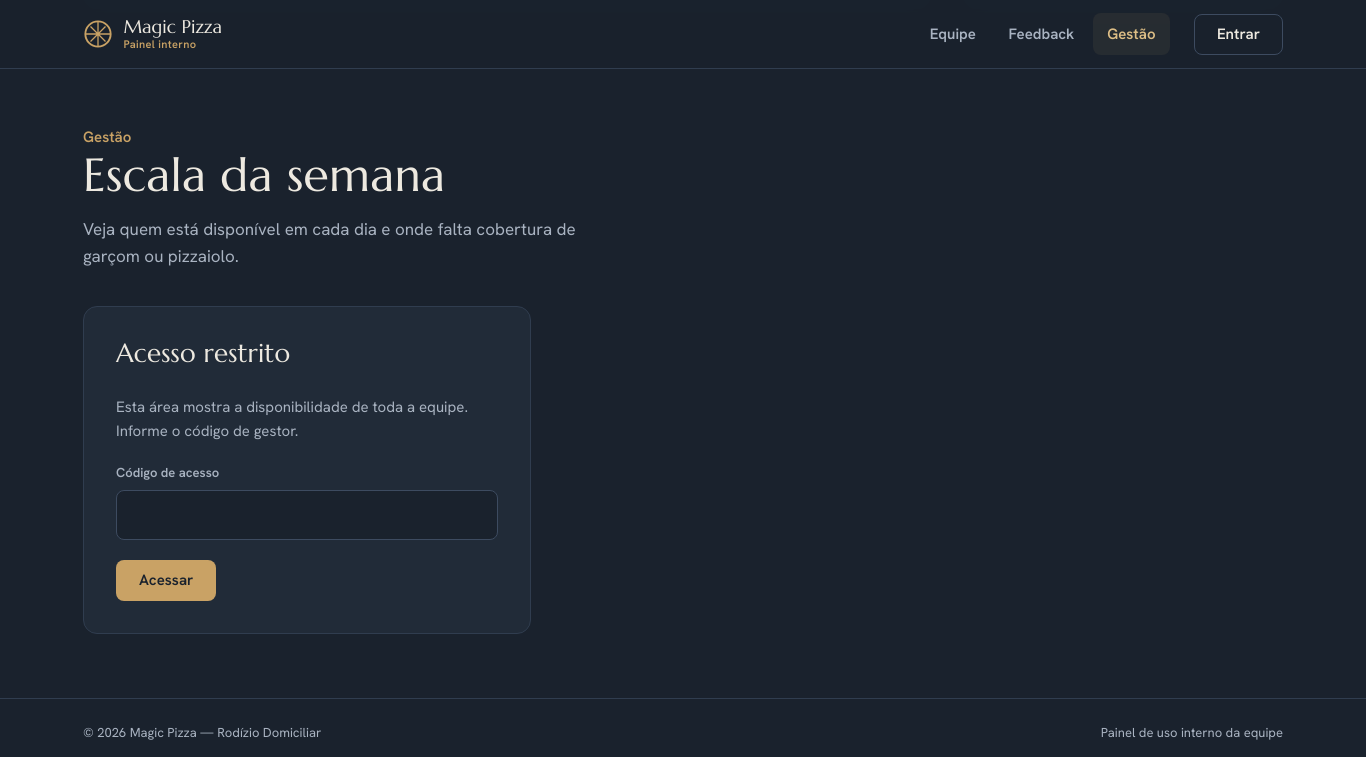
it: Aba Gestão › mostra a grade com horários e cobertura, e filtra por função
(page scrolled)
Step 1. Type "magic2026" into the password field labelled "Código de acesso" → (307, 515), box x1=116 y1=490 x2=498 y2=540
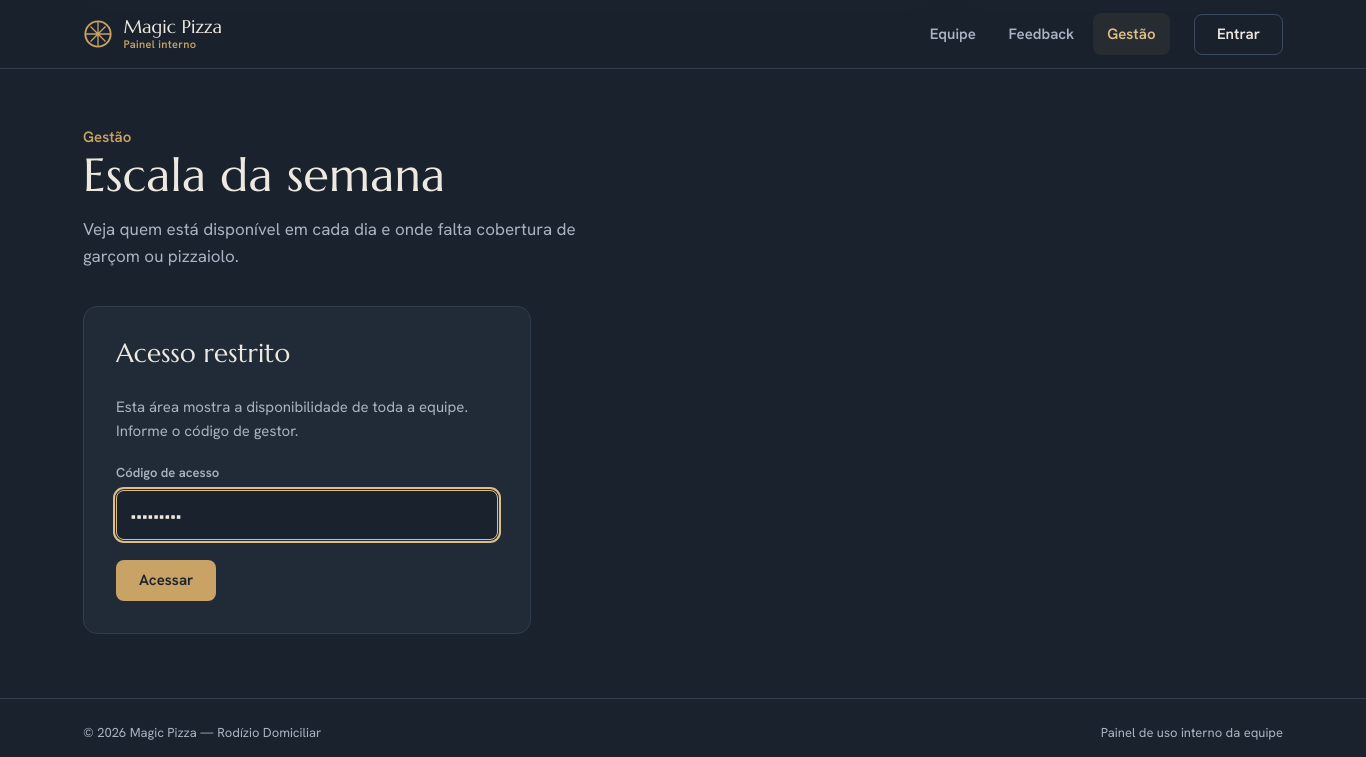
Step 2. Click the button "Acessar" → click(166, 581), box x1=116 y1=560 x2=216 y2=601
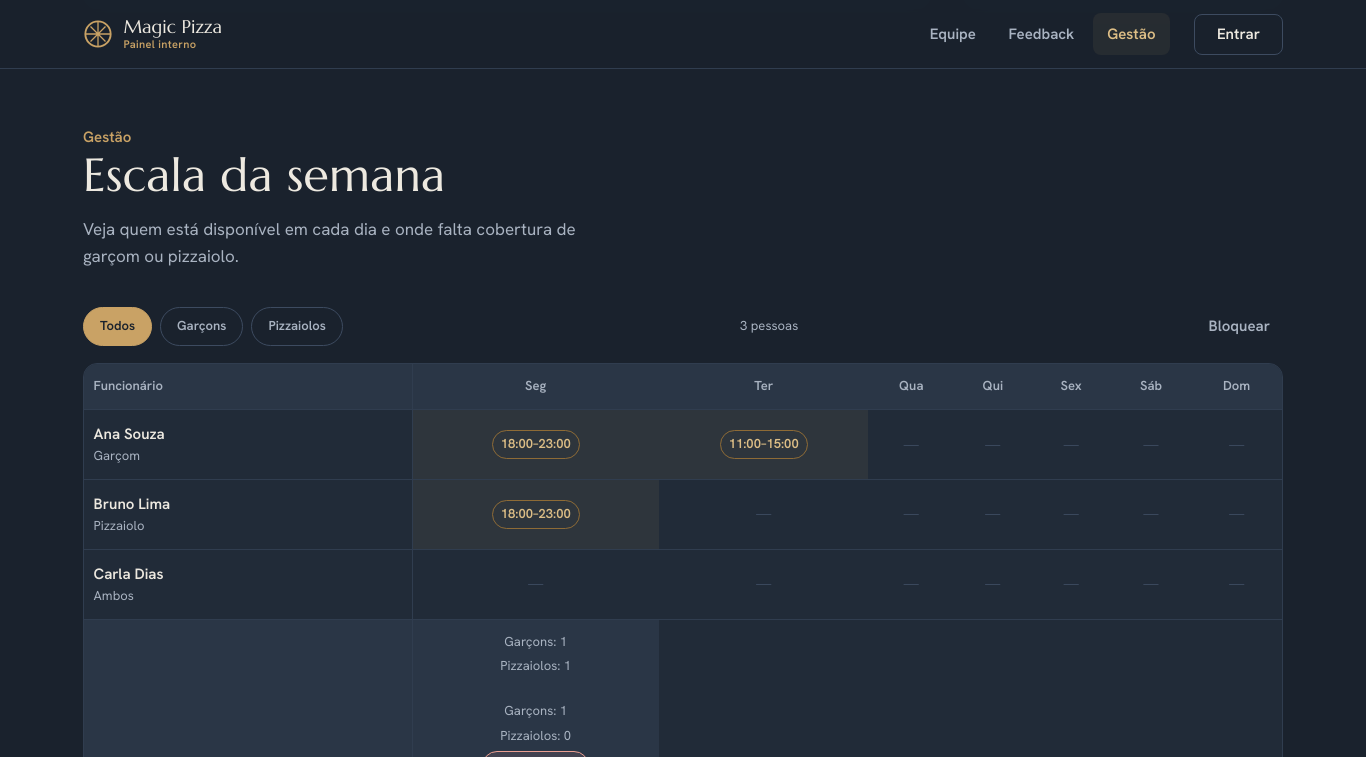
Check: the text "18:00–23:00" in the row of "Ana Souza" is shown, box x1=492 y1=430 x2=580 y2=459
Check: the text "11:00–15:00" is shown, box x1=720 y1=430 x2=808 y2=459
Step 3. Click the button "Pizzaiolos" → click(297, 327), box x1=251 y1=307 x2=343 y2=346
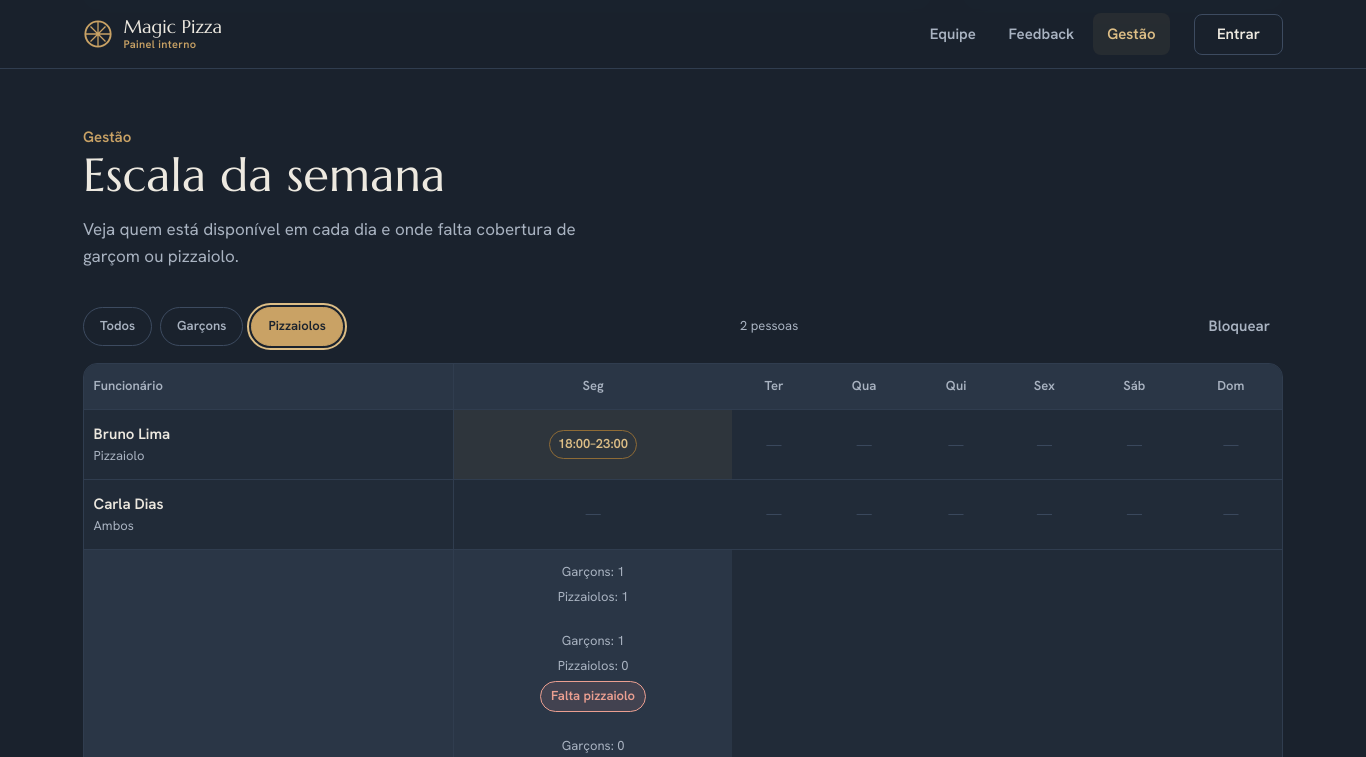
Check: the text "Carla Dias" is shown, box x1=94 y1=494 x2=164 y2=514
Check: the text "Ana Souza" is gone
